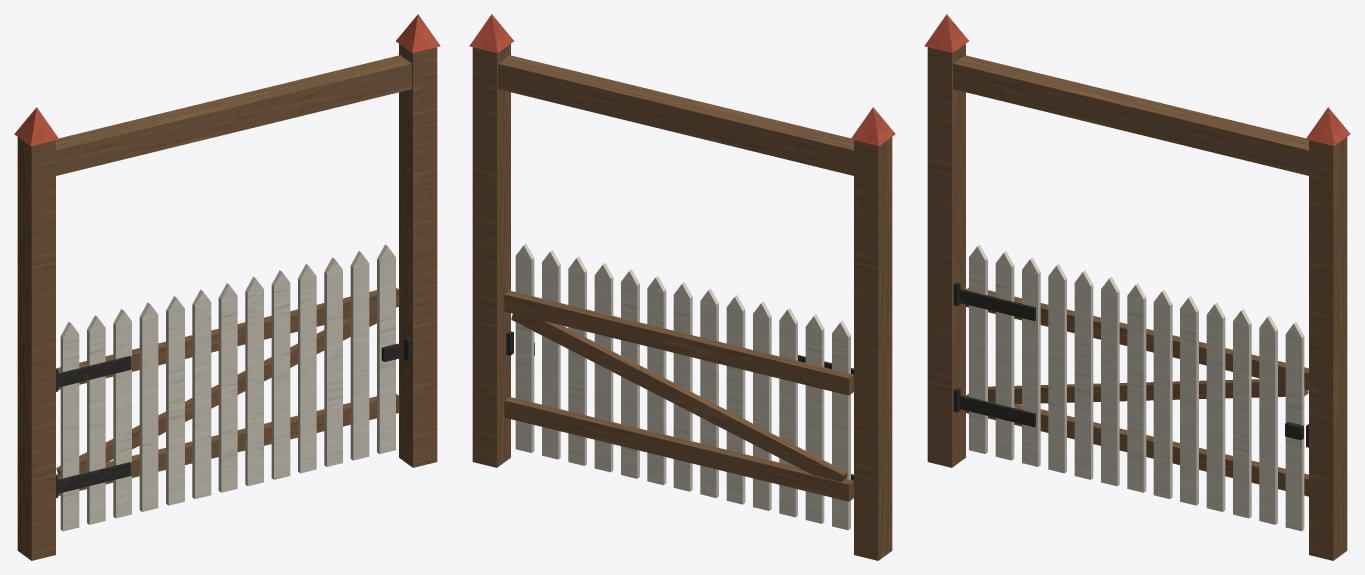
The model's file is fence-gate.glb.
3 views of the same model, side by side, from view 1: azimuth 30°, elevation 25°; view 2: azimuth 150°, elevation 25°; view 3: azimuth 330°, elevation 25° (orthographic).
Parts seen in each view (by area): view 1: Leaf, FenceGate_oak, FenceGate_terracotta; view 2: Leaf, FenceGate_oak, FenceGate_terracotta; view 3: Leaf, FenceGate_oak, FenceGate_terracotta.
Part boxes in pixels (x1,y1,x2,y2): Leaf: (56,244,400,531); FenceGate_oak: (17,44,437,560); FenceGate_terracotta: (14,14,440,145); Leaf: (504,243,853,530); FenceGate_oak: (472,44,892,560); FenceGate_terracotta: (469,14,895,145); Leaf: (959,244,1308,531); FenceGate_oak: (927,44,1347,560); FenceGate_terracotta: (924,14,1350,145).
Bounding box in the file's own units: 2.02 × 2.1 × 0.1414.
Materials: 4 (4 with a texture image).
